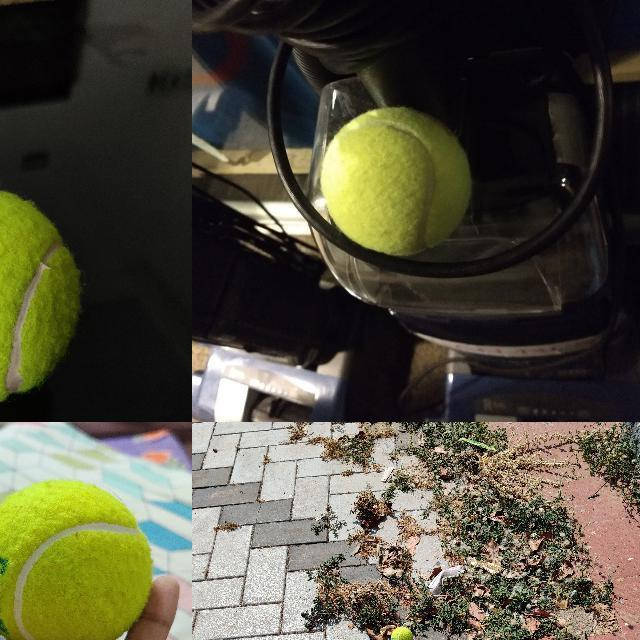tennis-ball: (0, 478, 154, 639), (319, 105, 473, 257), (0, 182, 83, 410), (391, 626, 413, 639)
